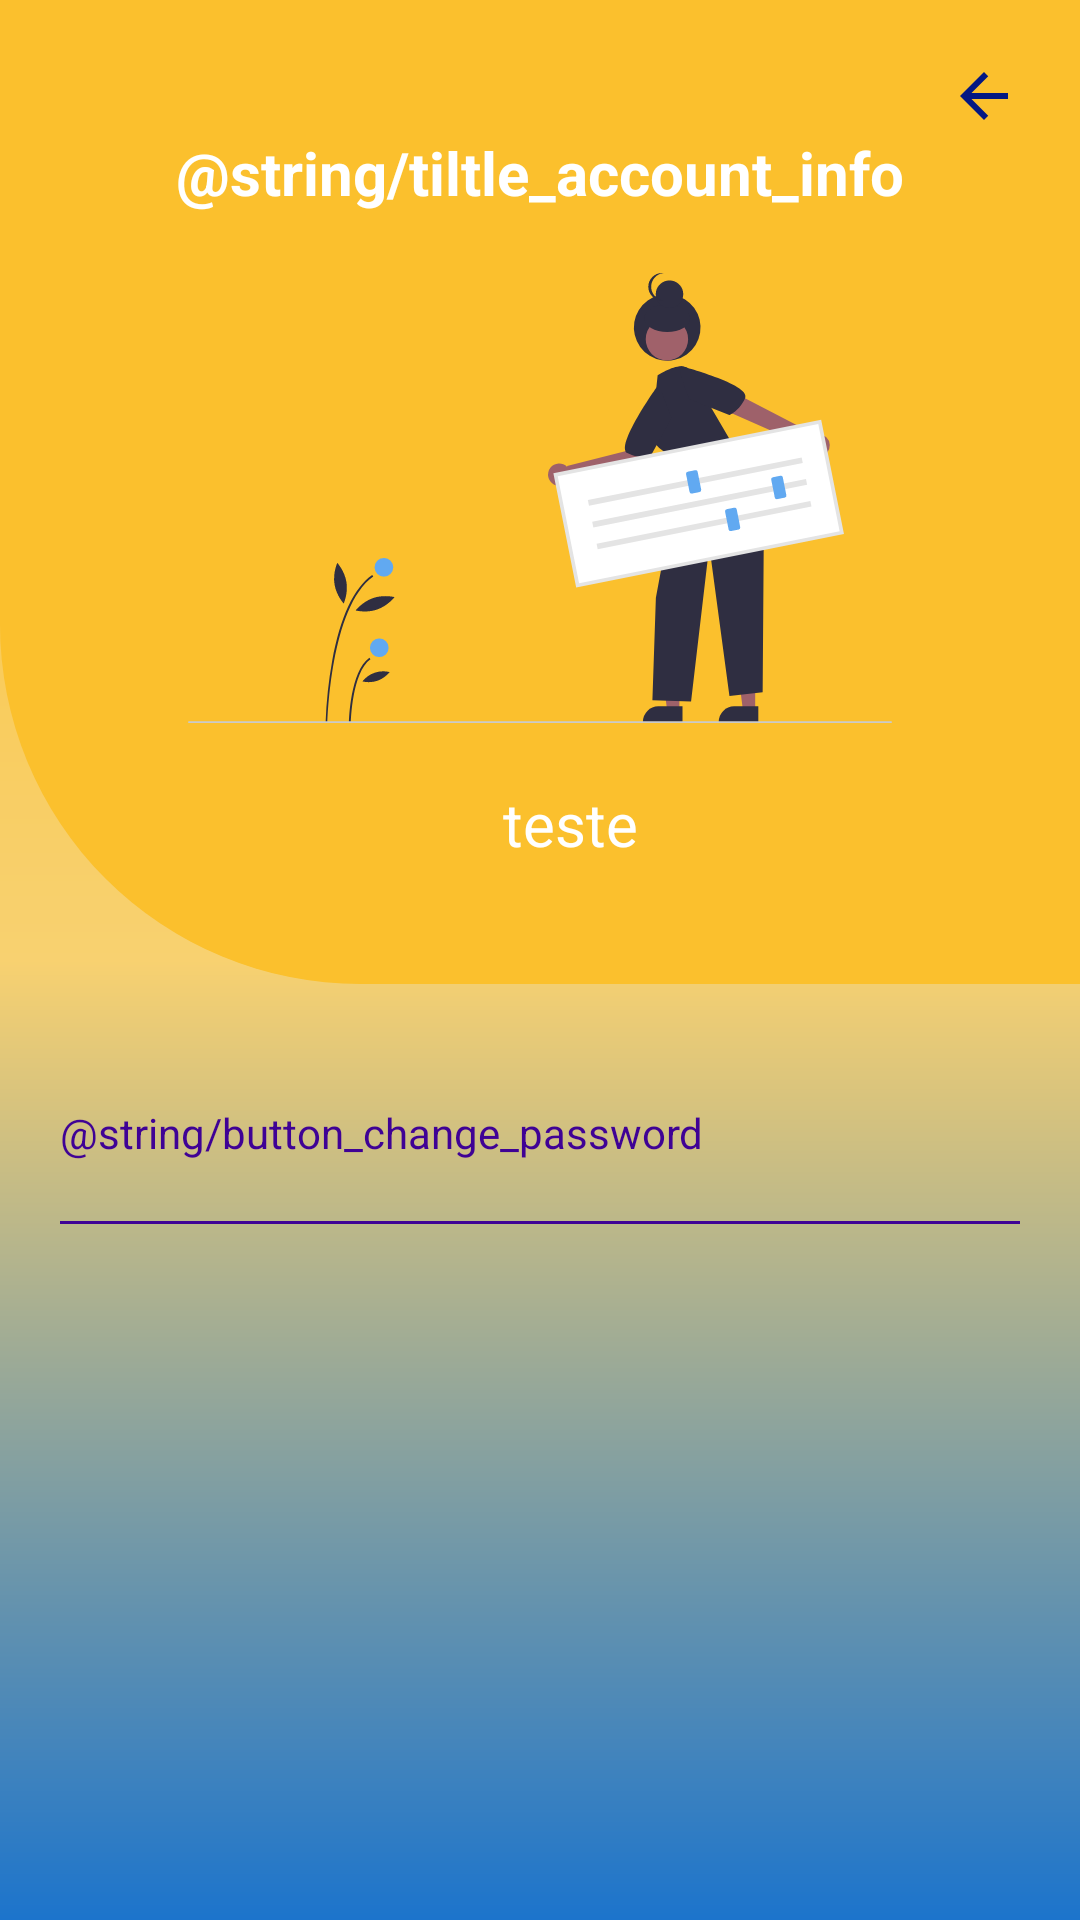

Screen size 1080×1920. Icon name, then its center in pixels as point (x, y):
arrow back: point (984, 96)
